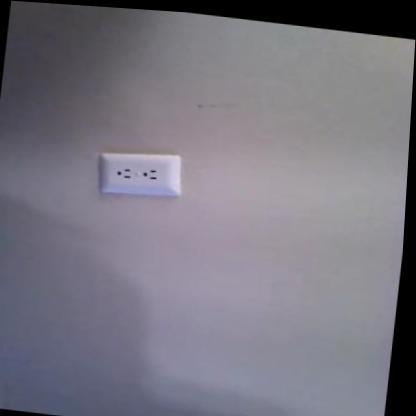OUTLET: (99, 144, 184, 201)
